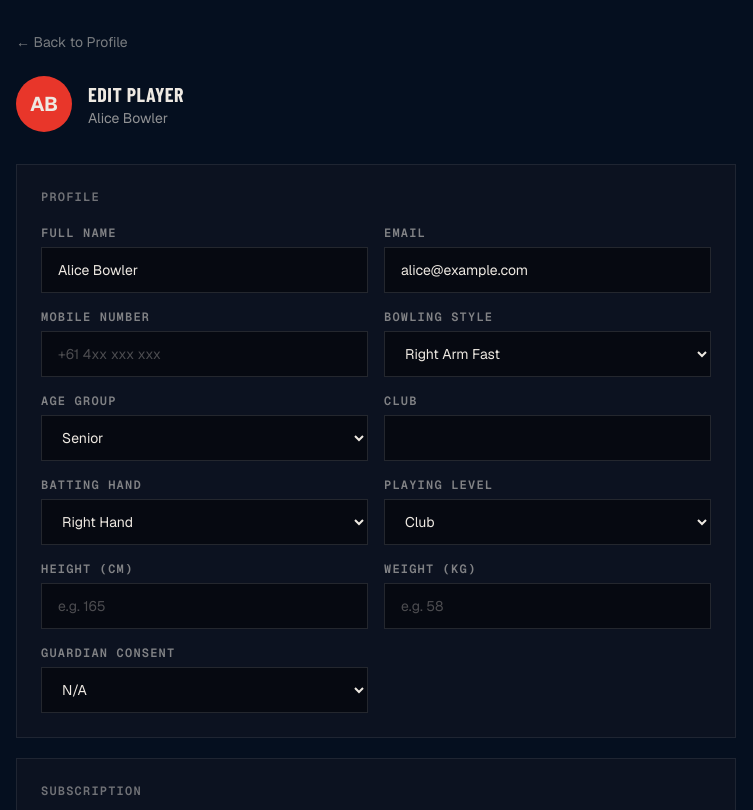
Scenario: EditPlayerForm › pre-fills fields from the player and saves edits
Step 1. Replace the text in the field showing "Alice Bowler" below "Full Name" with "Alice B. Bowler" → (204, 270), box [41, 247, 368, 293]
(page scrolled)
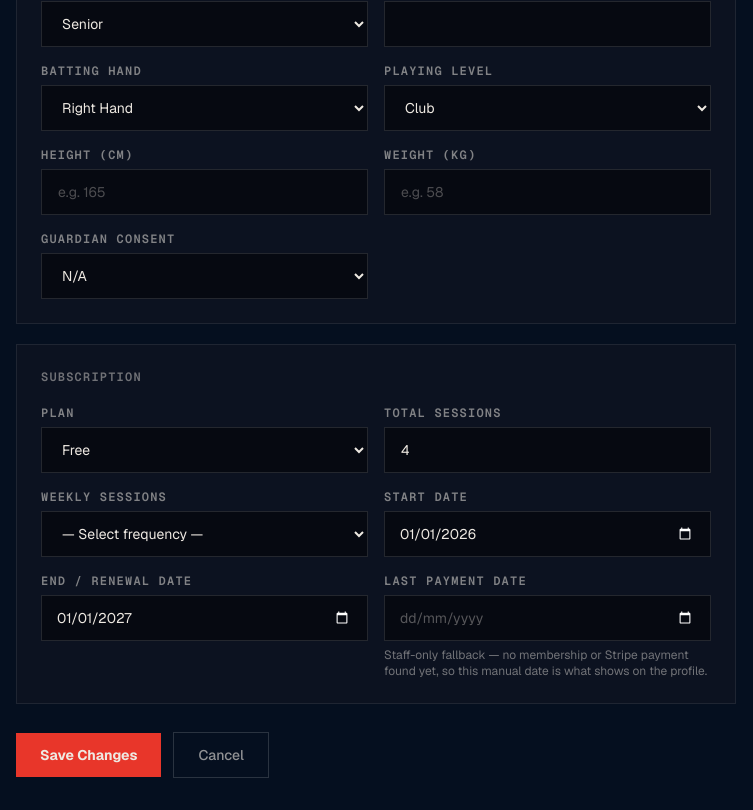
Step 2. Click the button "Save Changes" → (89, 755), box [16, 733, 161, 777]
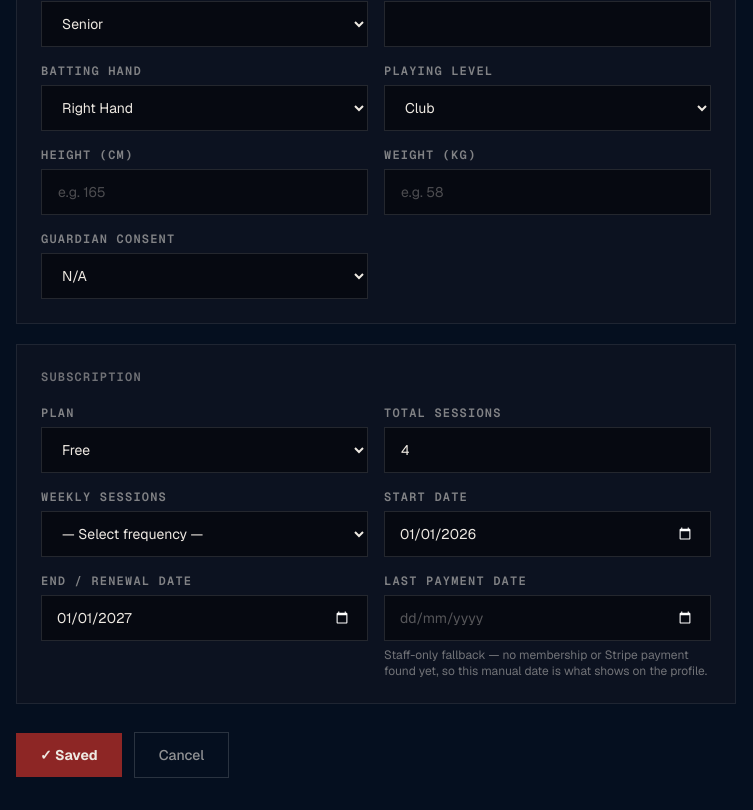
Expected: the button "✓ Saved" is shown, [16, 733, 122, 777]
